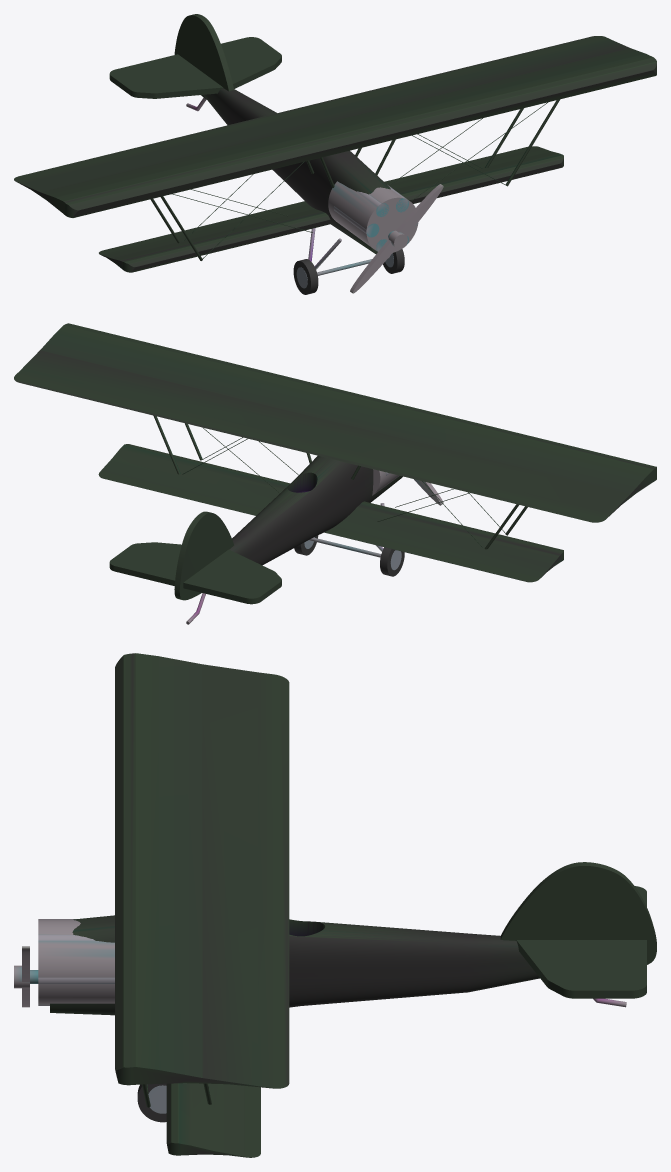
The picture shows the model from 3 angles, top to bottom: view 1: azimuth 30°, elevation 25°; view 2: azimuth 150°, elevation 25°; view 3: azimuth 270°, elevation 25°; orthographic projection. The views are drawn at different scales.
Visible parts, largest first — view 1: upper, lower, tailplane, body, engine, fin, blades, wheel.001; view 2: upper, lower, body, tailplane, fin; view 3: upper, body, fin, lower, tailplane, engine.
Boxes of the visible parts, x1=… form: upper: x1=14, y1=36, x2=656, y2=217; lower: x1=99, y1=146, x2=563, y2=272; tailplane: x1=109, y1=37, x2=281, y2=98; body: x1=203, y1=88, x2=394, y2=253; engine: x1=328, y1=181, x2=418, y2=252; fin: x1=174, y1=14, x2=233, y2=99; blades: x1=350, y1=184, x2=443, y2=293; wheel.001: x1=293, y1=259, x2=318, y2=294; upper: x1=14, y1=323, x2=656, y2=522; lower: x1=98, y1=444, x2=563, y2=582; body: x1=229, y1=456, x2=402, y2=565; tailplane: x1=109, y1=542, x2=281, y2=604; fin: x1=174, y1=511, x2=233, y2=600; upper: x1=115, y1=653, x2=289, y2=1088; body: x1=50, y1=915, x2=539, y2=1015; fin: x1=500, y1=862, x2=656, y2=964; lower: x1=166, y1=1083, x2=260, y2=1157; tailplane: x1=516, y1=886, x2=646, y2=998; engine: x1=38, y1=919, x2=114, y2=1004.
Size of the model in its own units: 111 by 28.75 by 73.03.
